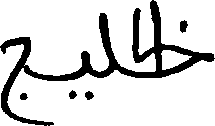ا: (149, 0, 163, 81)
ج: (0, 35, 31, 125)
خ: (132, 20, 213, 82)
ل: (97, 10, 117, 78), (129, 5, 142, 62)
ي: (67, 49, 98, 99)
